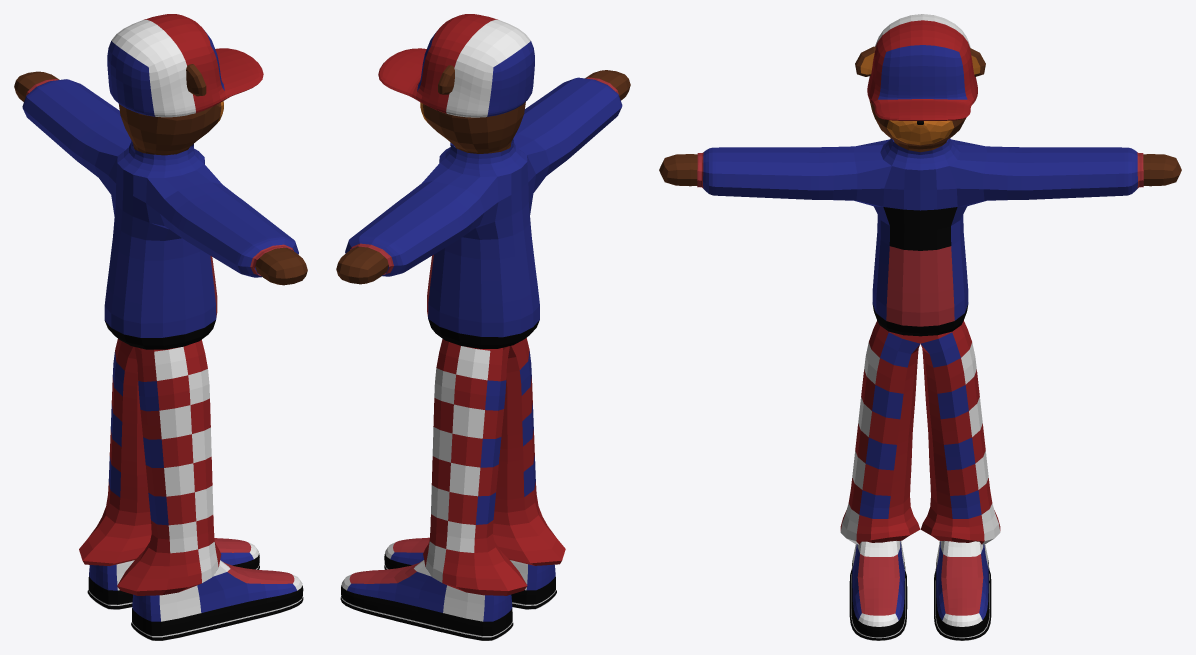
File: blenderue4v2MESHCLOSED.fbx
3 renders of one model, left to right at view 1: azimuth 30°, elevation 25°; view 2: azimuth 150°, elevation 25°; view 3: azimuth 270°, elevation 25°, orthographic. The views are drawn at different scales.
Parts seen in each view (by area): view 1: Hoodie, Pantelones, El sombrero, Shoe.R, Head, Hands, Shoe.L; view 2: Hoodie, Pantelones, El sombrero, Shoe.L, Head, Hands, Shoe.R; view 3: Hoodie, Pantelones, El sombrero, Shoe.R, Shoe.L, Head, Hands.
Boxes of the visible parts, left/top/right/bottom form: Hoodie: left=22, top=79, right=298, bottom=349; Pantelones: left=79, top=339, right=221, bottom=595; El sombrero: left=107, top=14, right=263, bottom=117; Shoe.R: left=131, top=560, right=303, bottom=640; Head, Hands: left=14, top=64, right=307, bottom=285; Shoe.L: left=87, top=538, right=259, bottom=609; Hoodie: left=345, top=77, right=622, bottom=348; Pantelones: left=423, top=338, right=565, bottom=595; El sombrero: left=378, top=14, right=534, bottom=117; Shoe.L: left=340, top=560, right=513, bottom=640; Head, Hands: left=336, top=65, right=630, bottom=284; Shoe.R: left=384, top=537, right=556, bottom=609; Hoodie: left=697, top=138, right=1143, bottom=336; Pantelones: left=840, top=320, right=1000, bottom=544; El sombrero: left=867, top=14, right=977, bottom=120; Shoe.R: left=849, top=541, right=907, bottom=640; Shoe.L: left=934, top=541, right=991, bottom=640; Head, Hands: left=659, top=46, right=1181, bottom=186.
Size of the model in its own units: 828 by 317 by 987.
